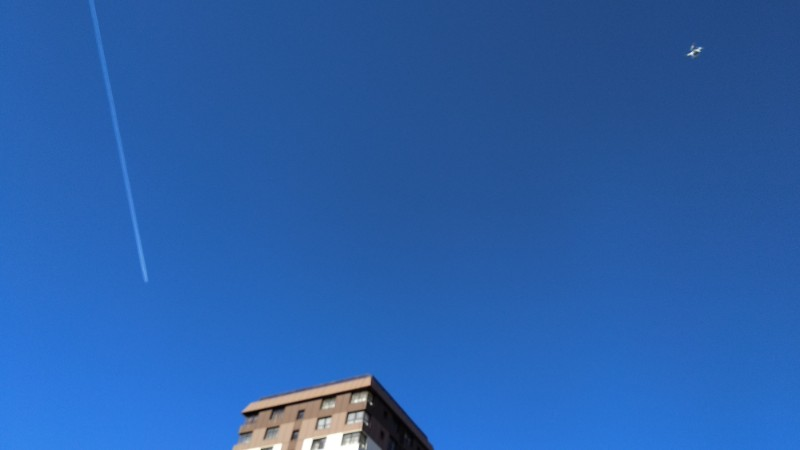drone: (684, 41, 704, 60)
